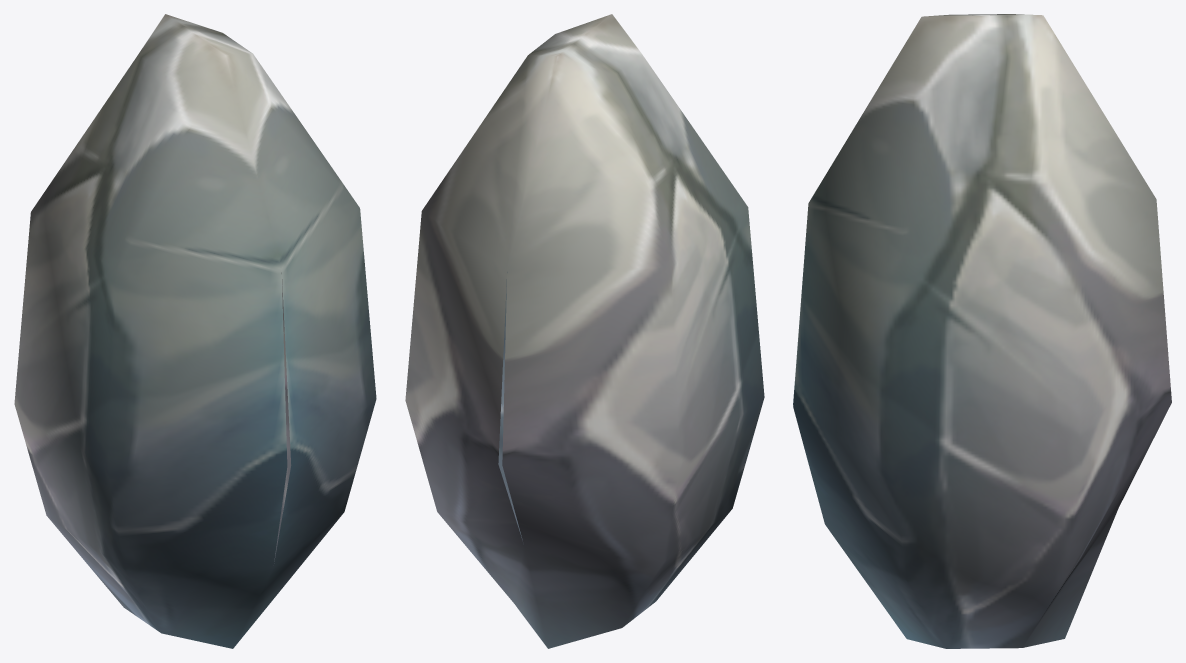
Rendered from scenes_common_iron01.FBX.
3 renders of one model, left to right at view 1: azimuth 30°, elevation 25°; view 2: azimuth 150°, elevation 25°; view 3: azimuth 270°, elevation 25°, orthographic. The views are drawn at different scales.
Parts seen in each view (by area): view 1: scenes_common_iron01; view 2: scenes_common_iron01; view 3: scenes_common_iron01.
Part boxes in pixels (x1,y1,x2,y2): scenes_common_iron01: (14,14,376,648); scenes_common_iron01: (405,14,764,648); scenes_common_iron01: (793,14,1171,648).
Bounding box in the file's own units: 9.94 × 20.25 × 11.15.
